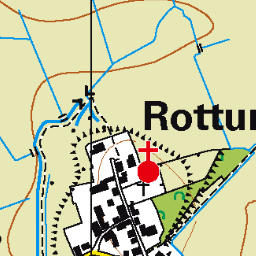church: (132, 139, 164, 186)
